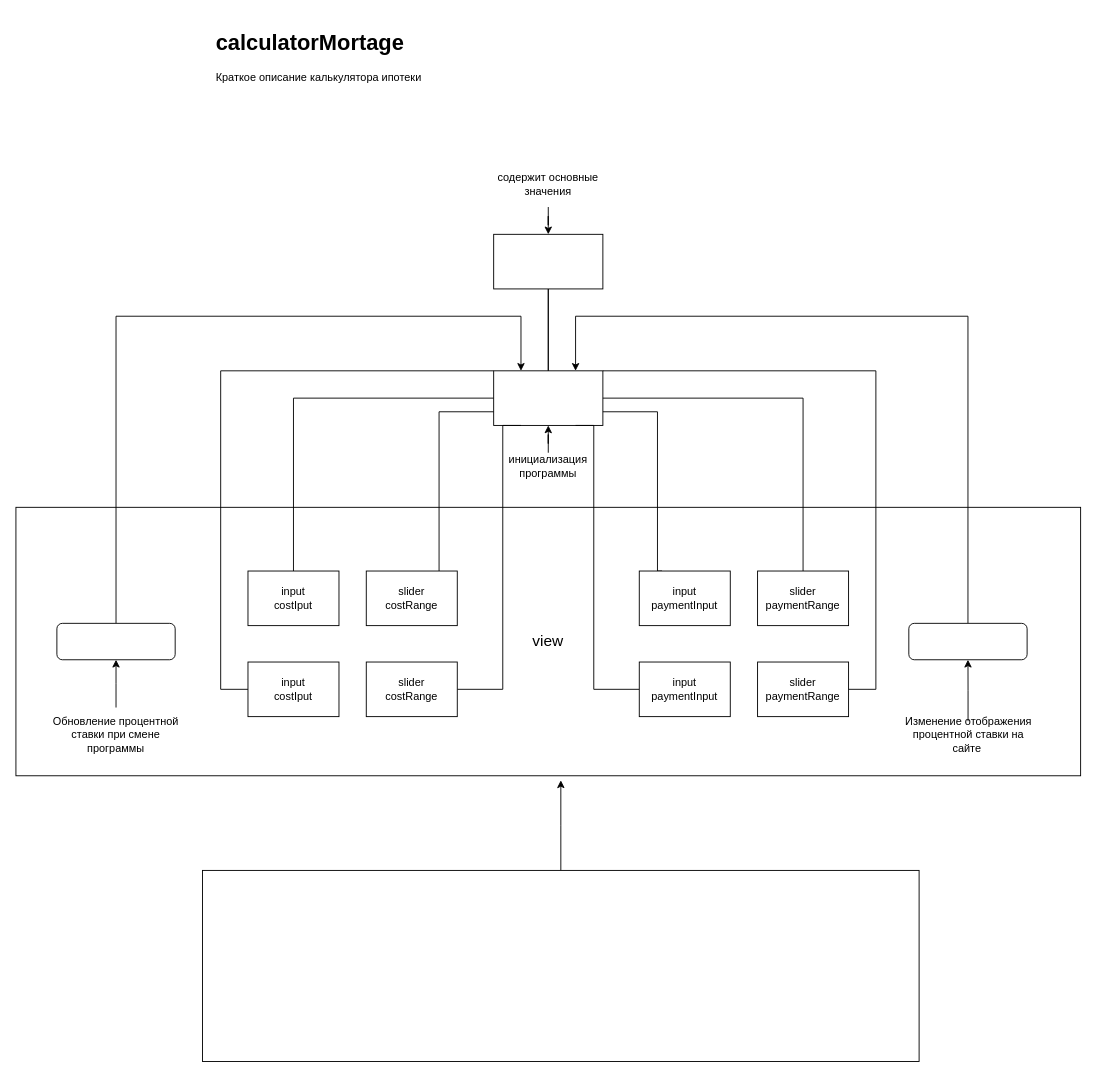
The diagram is 1097 pixels wide and 1077 high, and some of its shapes have lost their labels. The shapes that lost their labels are listed below. From the top down, each one's centre as x and y in pixels, then its label:
the point at 548,261: model
the point at 548,397: controller
the point at 115,641: updateResultView
the point at 967,641: utils
the point at 560,966: util
